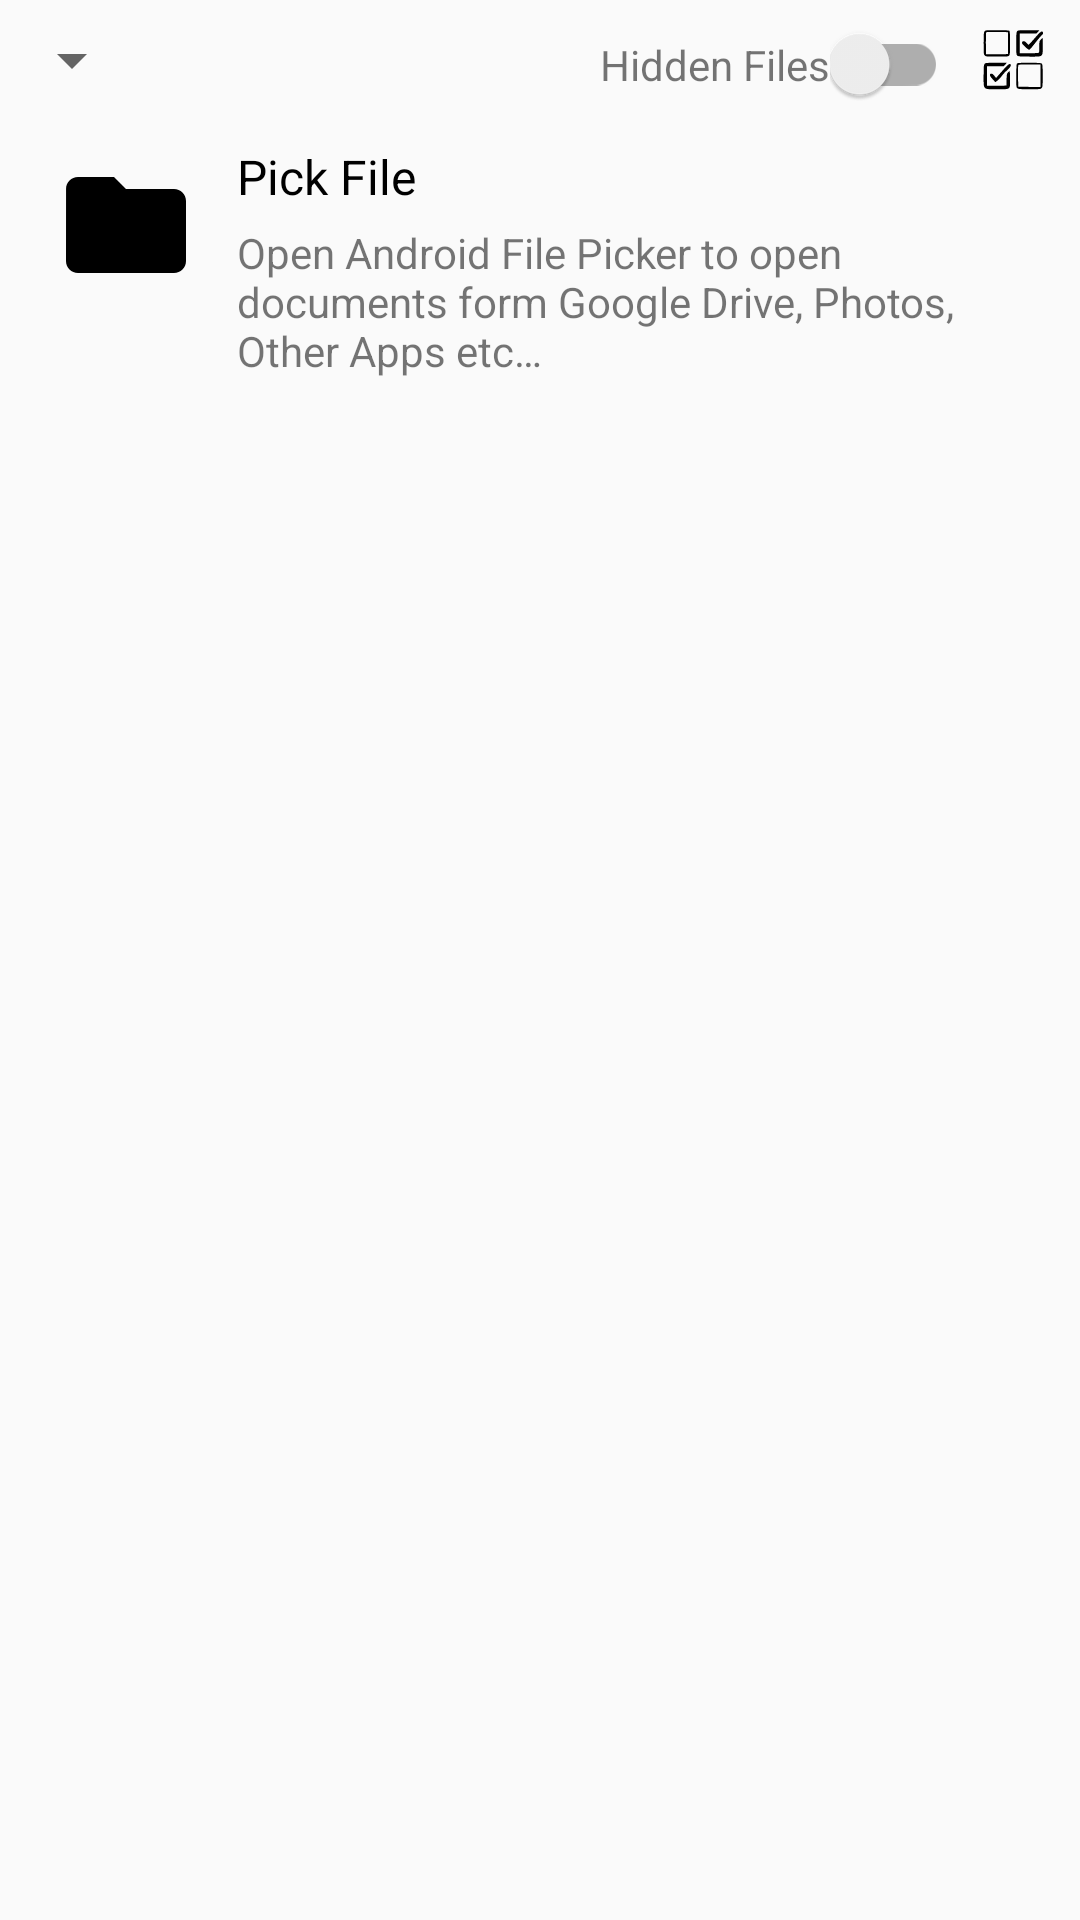

Screen size 1080px×1920px. Icon name, then its center in pixels as point (x, y):
folder: point (126, 225)
multiselect: point (1013, 60)
